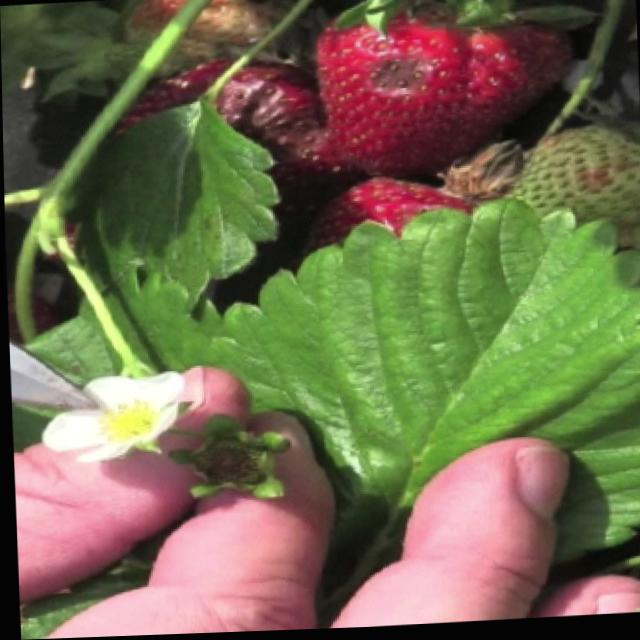Anthracnose Fruit Rot: (354, 47, 436, 111)
